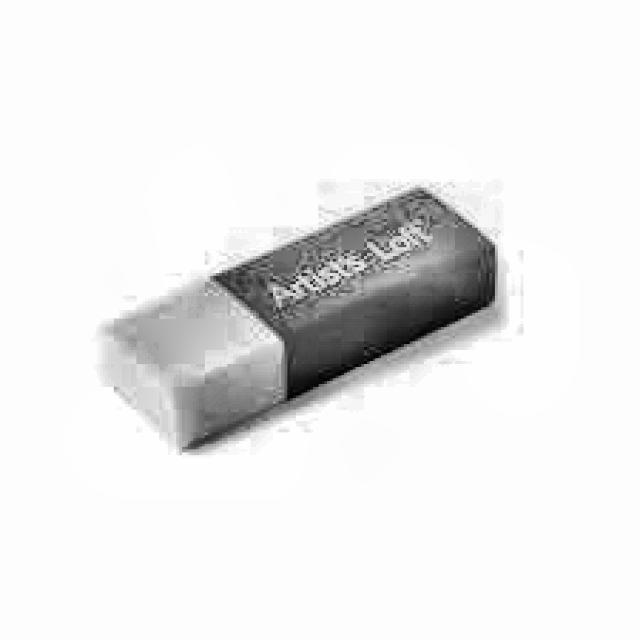eraser: (108, 179, 501, 455)
